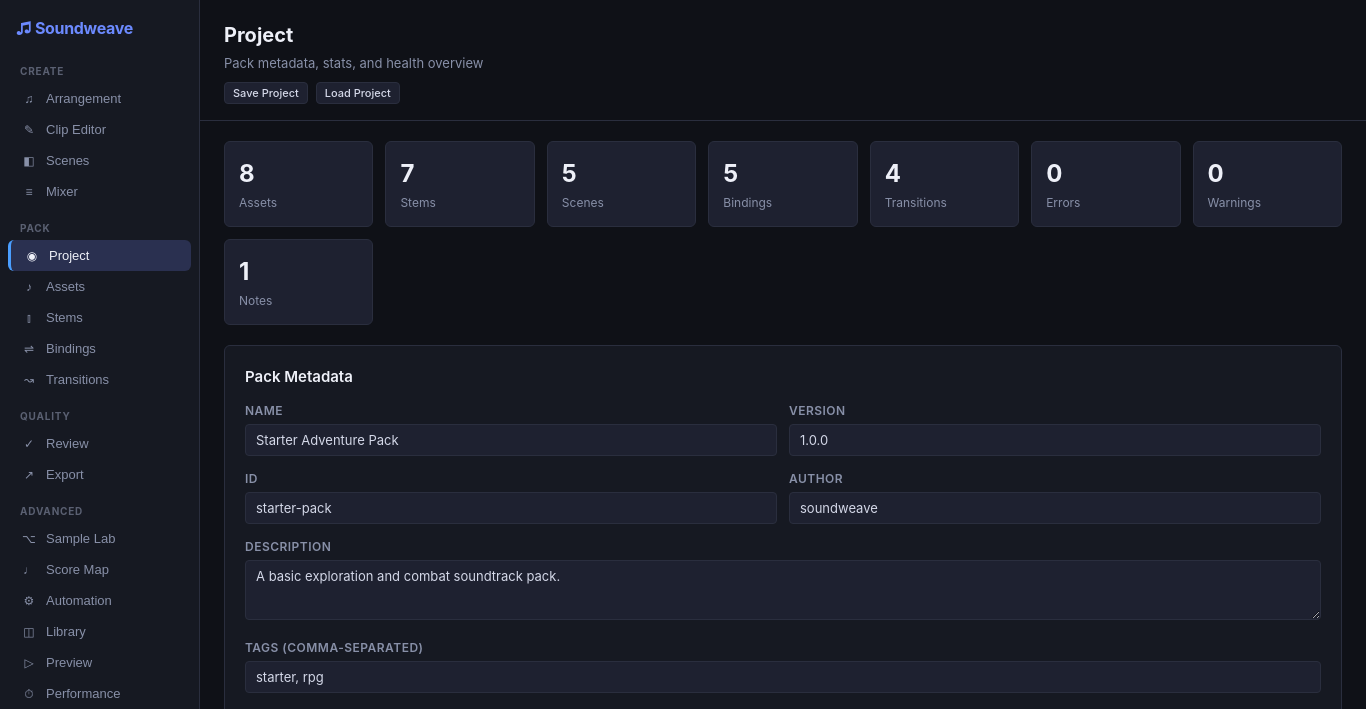
it: KeyboardShortcutsOverlay › closes when clicking the close button
This screenshot has width=1366, height=709.
Press ?
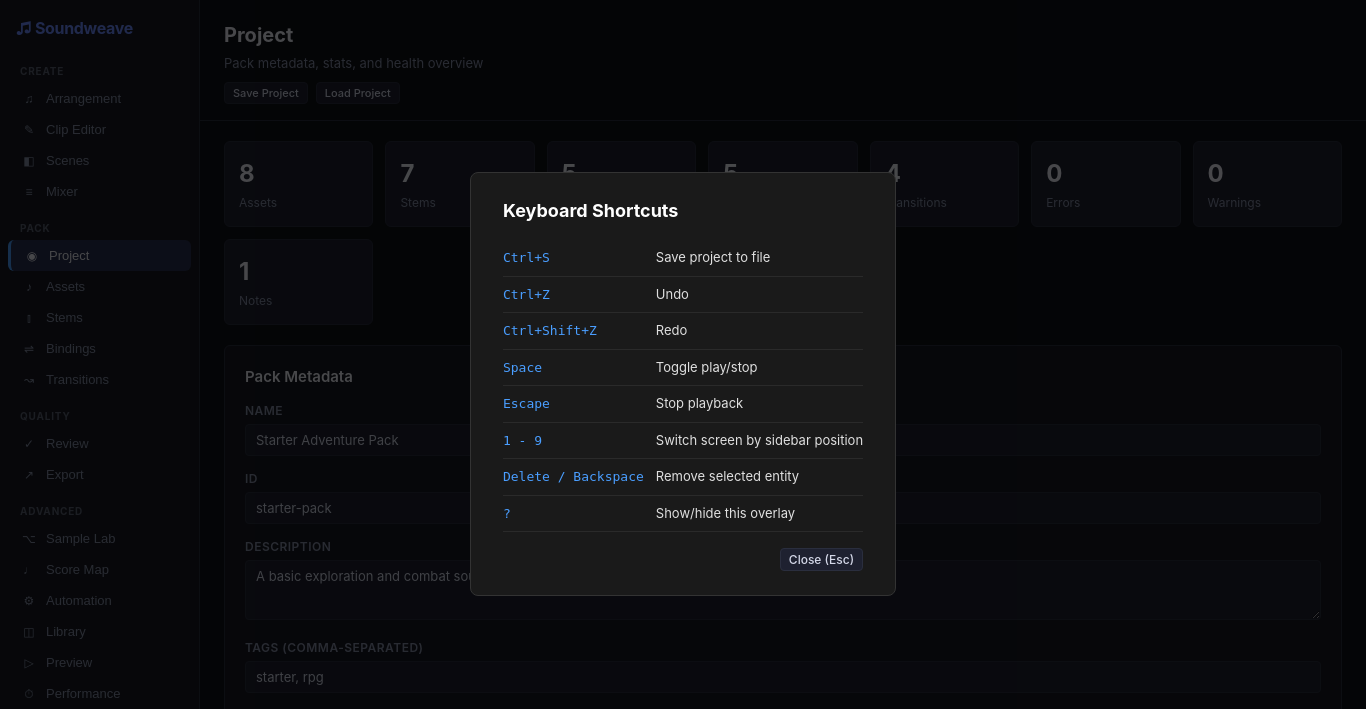
Click the button "Close (Esc)" at x=821, y=560, box 780,548 -> 863,571
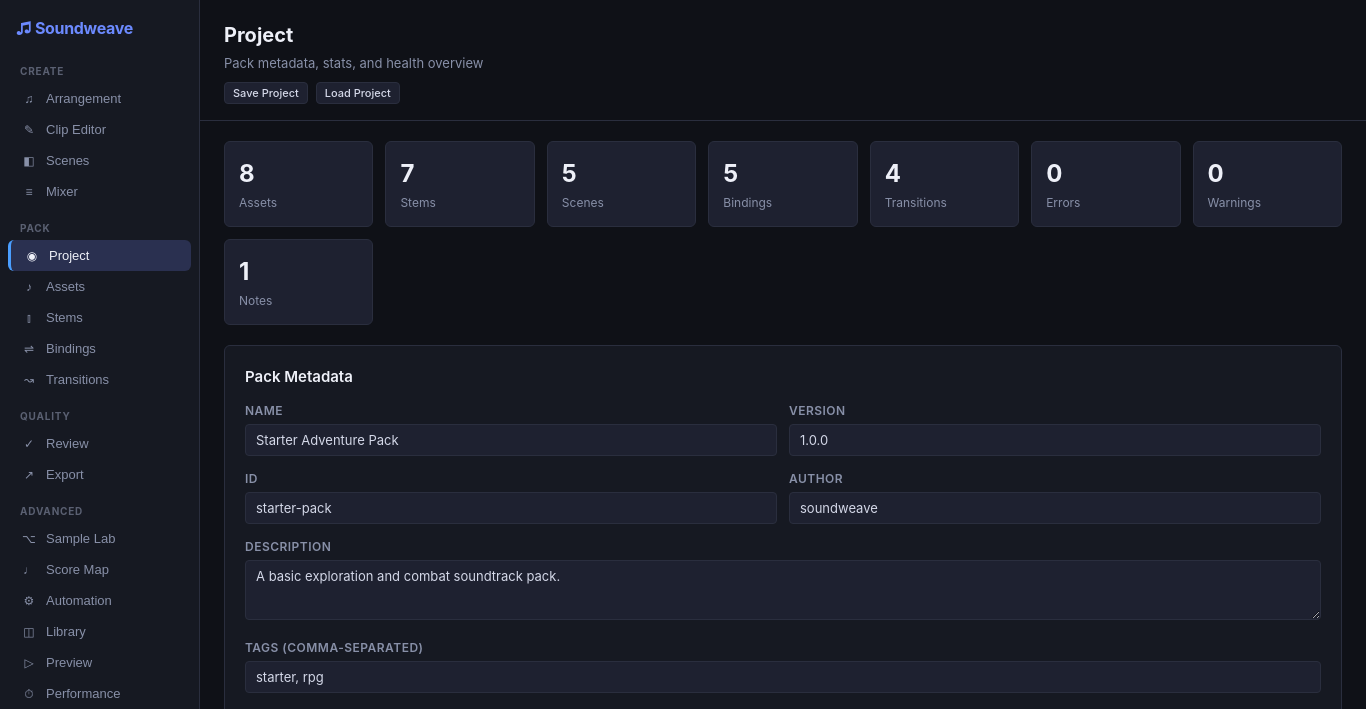
Expected: the heading "Keyboard Shortcuts" is gone
